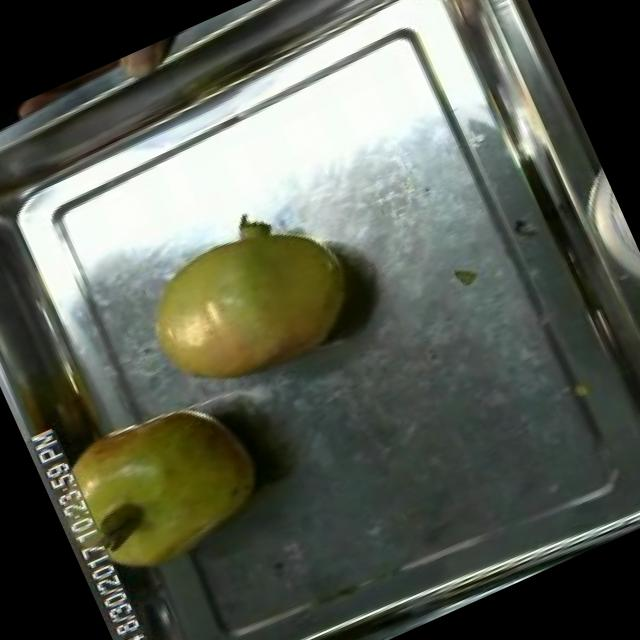fruit: (110, 181, 378, 419), (38, 373, 290, 602), (92, 30, 198, 100)
